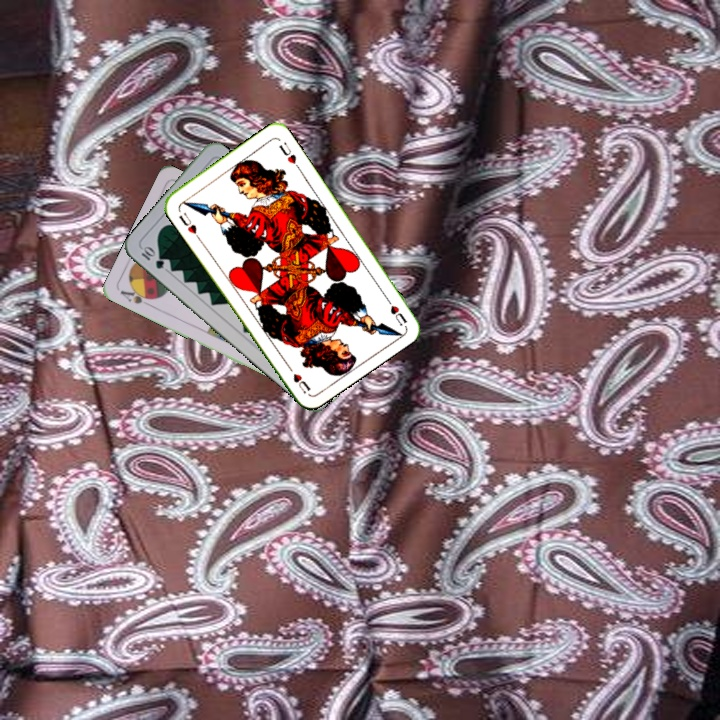G10: (137, 242, 167, 272)
HU: (381, 292, 409, 329), (175, 208, 199, 236)
SA: (116, 284, 157, 309)
